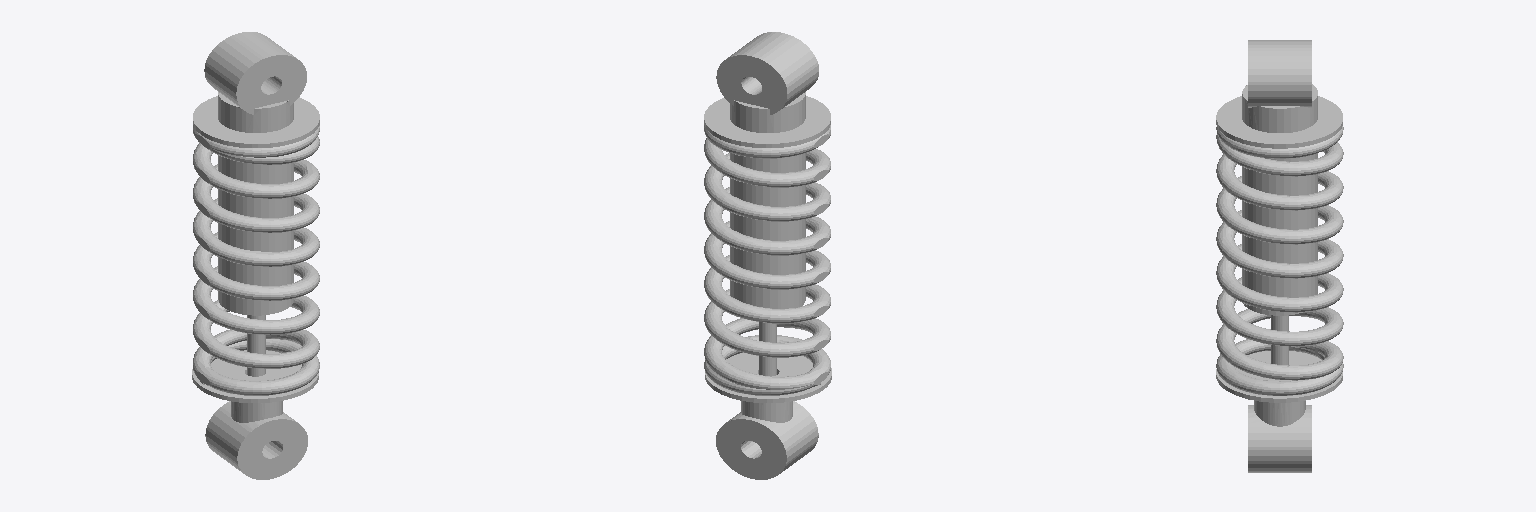
Rendered from mechanical.obj.
The picture shows the model from 3 angles: view 1: azimuth 30°, elevation 25°; view 2: azimuth 150°, elevation 25°; view 3: azimuth 270°, elevation 25°; orthographic projection.
Visible parts, largest first — view 1: Cylinder_End_Bottom; view 2: Cylinder_End_Bottom; view 3: Cylinder_End_Bottom.
Boxes of the visible parts, x1,y1,x2,y2 form: Cylinder_End_Bottom: [192, 32, 319, 479]; Cylinder_End_Bottom: [704, 32, 831, 479]; Cylinder_End_Bottom: [1216, 40, 1343, 472].
Bounding box in the file's own units: 0.6745 × 2.45 × 0.6713.